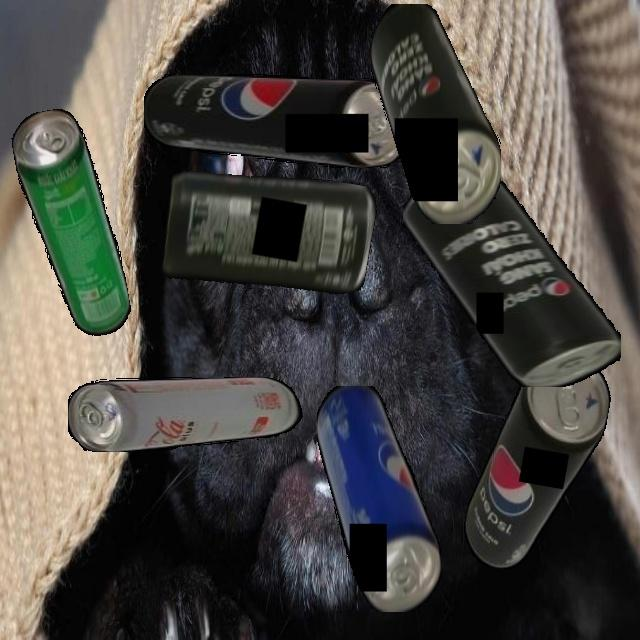debris: (403, 173, 621, 387), (458, 341, 617, 582), (155, 153, 380, 312), (8, 103, 134, 344), (370, 3, 501, 224), (316, 385, 441, 612), (143, 74, 409, 168), (68, 376, 305, 452)
